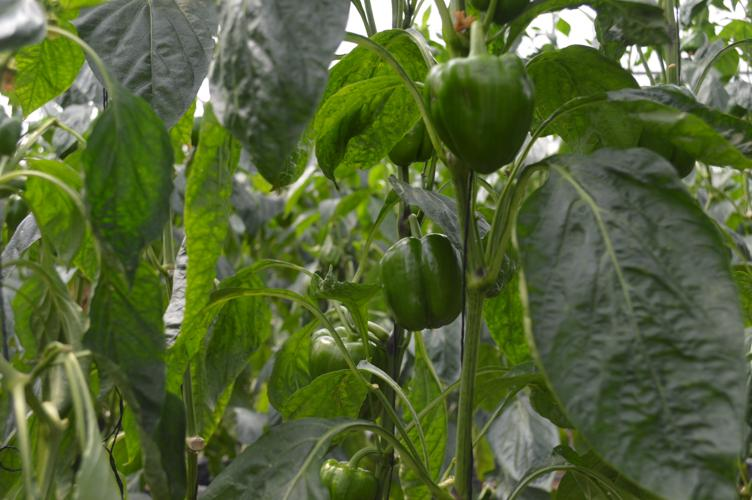BellPepper: (428, 55, 530, 177), (380, 233, 466, 335), (307, 333, 381, 416), (318, 461, 378, 498), (388, 123, 429, 169)
